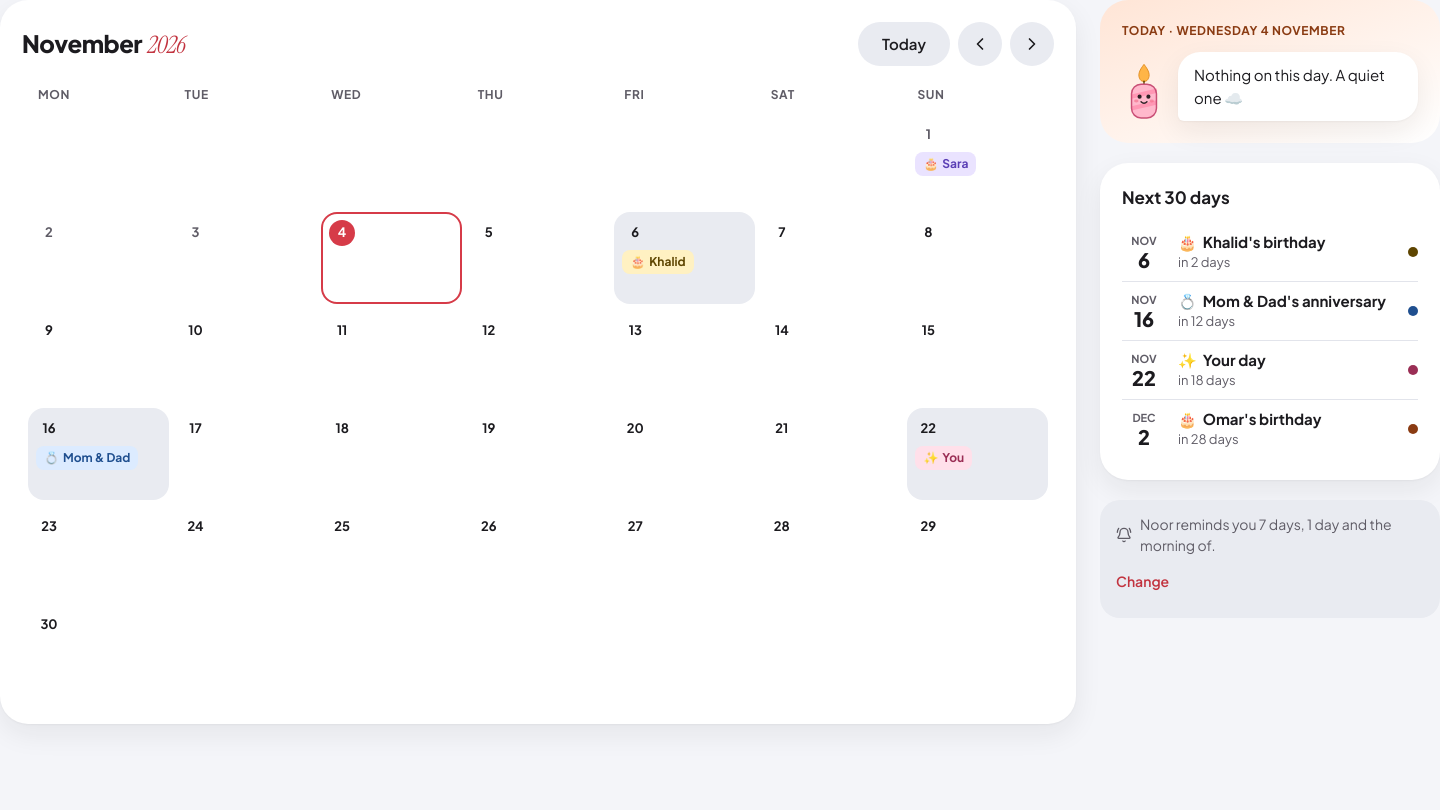
Scenario: Calendar › lists the next 30 days, your day included, and jumps to one
This screenshot has width=1440, height=810.
Click the button "DEC 2 🎂 Omar's birthday in 28 days" at (1270, 428), box x1=1122 y1=400 x2=1418 y2=458
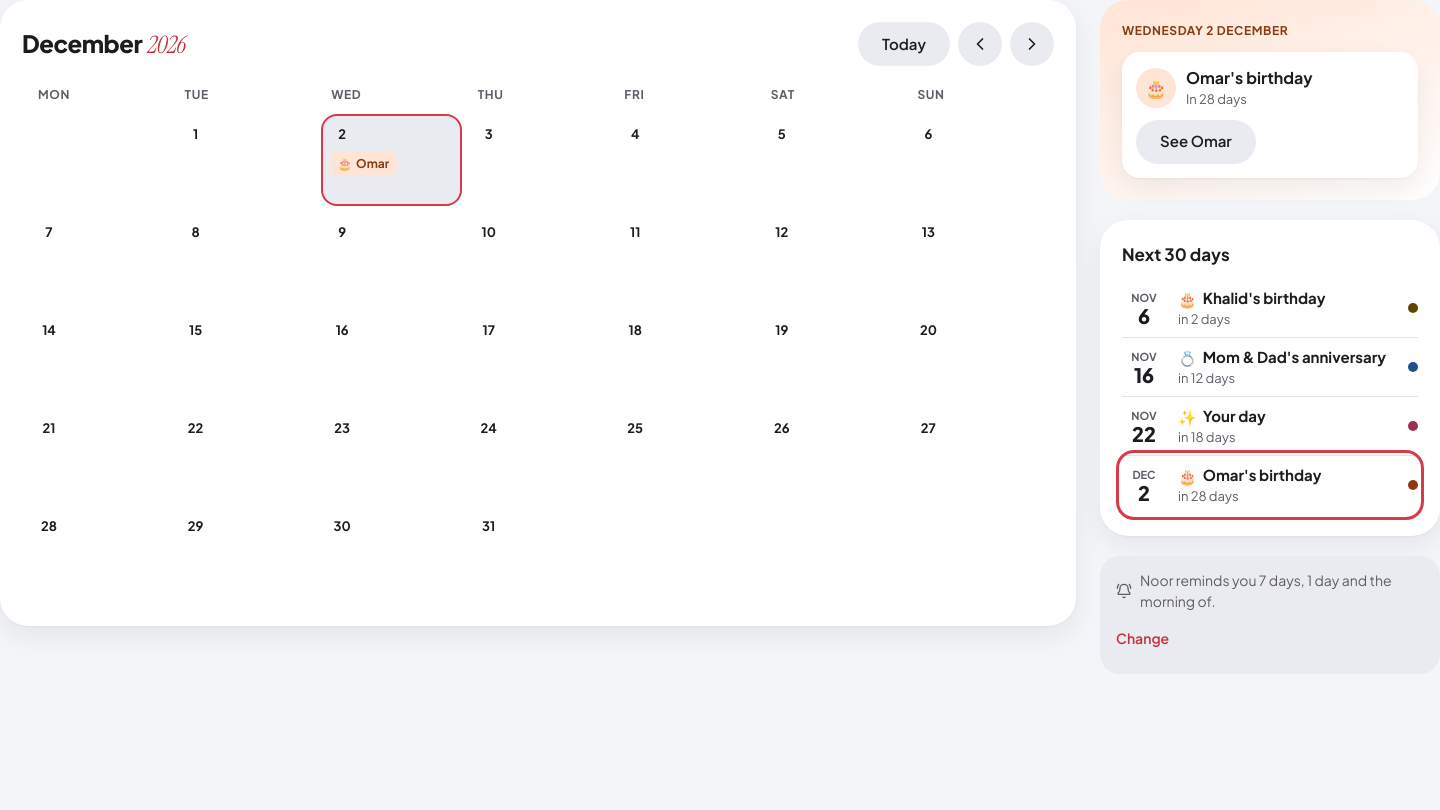
expect the text "Noor reminds you 7 days, 1 day and the morning of." is shown: met, box x1=1116 y1=570 x2=1424 y2=612
expect the heading "December 2026" is shown: met, box x1=22 y1=28 x2=184 y2=60
